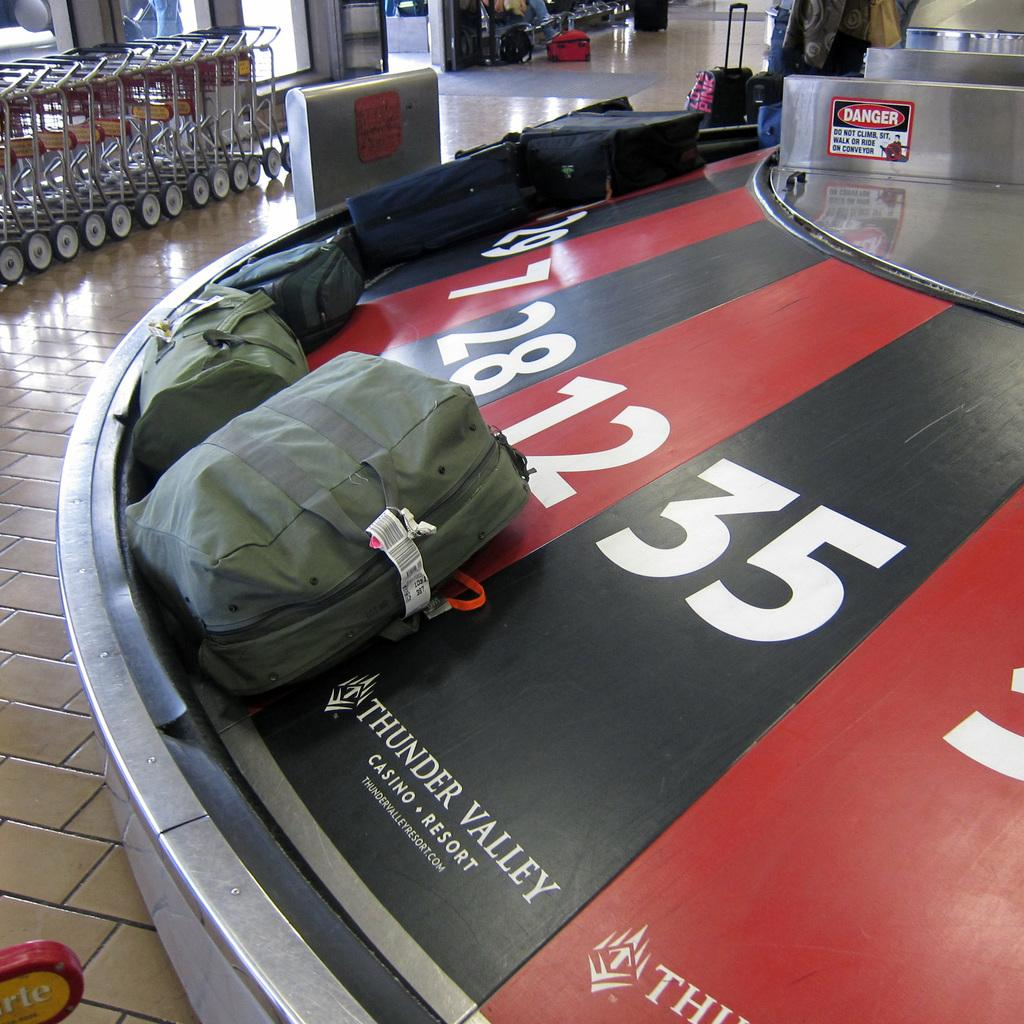Luggage-and-bags: (103, 320, 580, 716), (130, 277, 312, 483), (345, 140, 550, 263), (221, 240, 370, 350), (529, 111, 702, 196), (695, 4, 753, 120), (683, 67, 726, 130)
